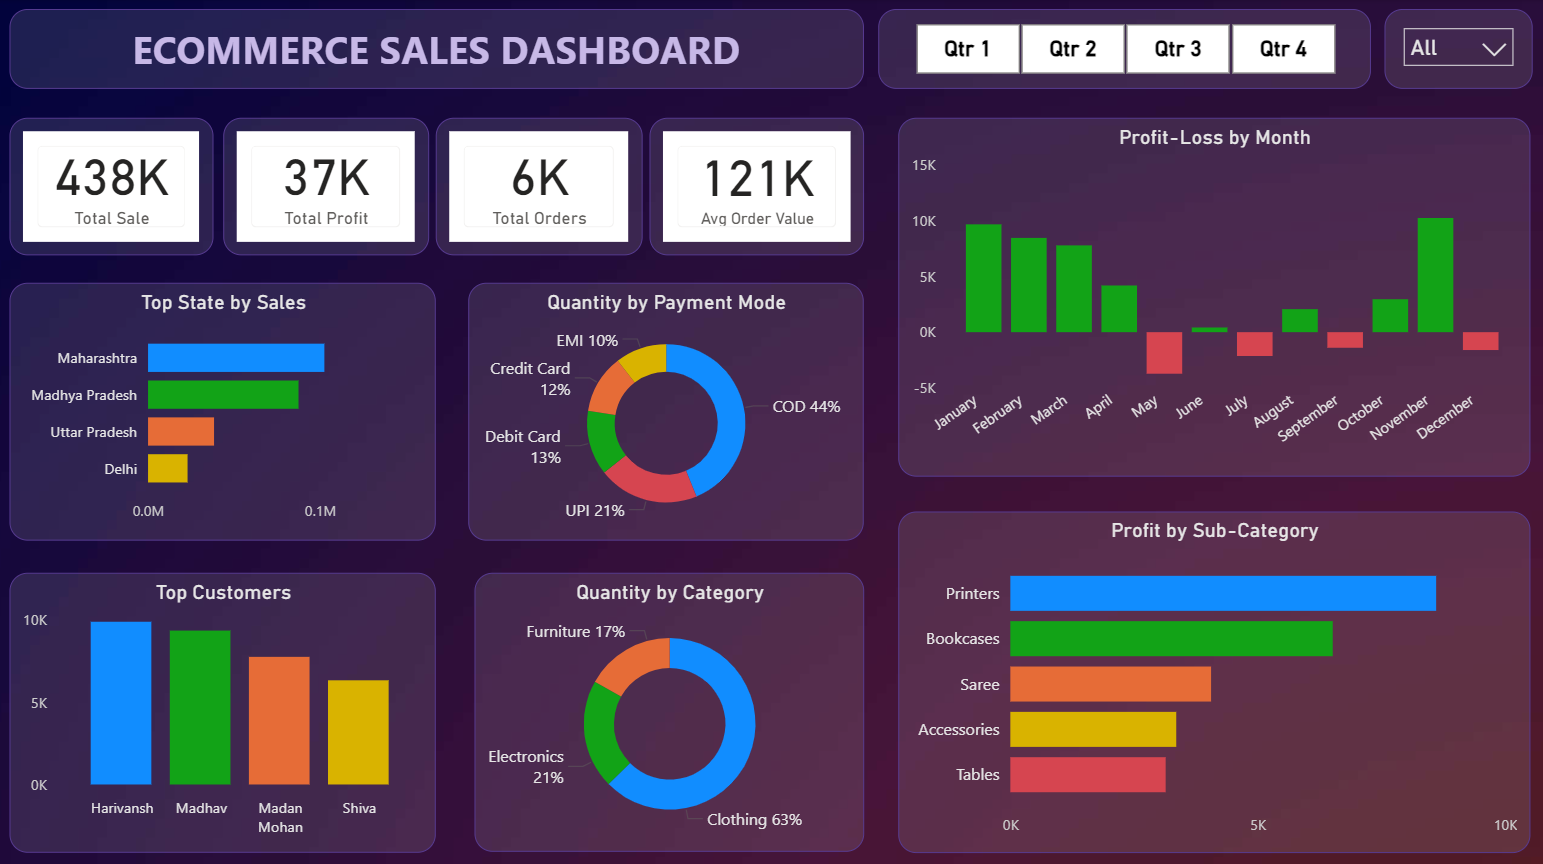

What the dashboard file says about the page in this screenshot:
{"tool":"powerbi","page":{"name":"Page 1","canvas":[1288,720],"ordinal":0},"visuals":[{"type":"clusteredColumnChart","title":"Profit-Loss by Month","fields":{"Category":["Orders.Order Date.Variation.Date Hierarchy.Month"],"Y":["Sum(Details.Profit)"]},"box":[748.8,98.3,525.4,298.4],"z":0},{"type":"clusteredBarChart","title":"Profit by Sub-Category","fields":{"Category":["Details.Sub-Category"],"Y":["Sum(Details.Profit)"]},"box":[748.8,425.9,525.4,284.3],"z":1000},{"type":"donutChart","title":"Quantity by Category","fields":{"Category":["Details.Category"],"Y":["Sum(Details.Quantity)"]},"box":[396.7,477.4,324.1,231.7],"z":2000},{"type":"donutChart","title":"Quantity by Payment Mode","fields":{"Y":["Sum(Details.Quantity)"],"Category":["Details.PaymentMode"]},"box":[392,236.4,328.8,214.1],"z":3000},{"type":"cardVisual","fields":{"Data":["Sum(Details.Amount)"]},"box":[10.5,98.3,169.7,114.7],"z":4000},{"type":"clusteredBarChart","title":"Top State by Sales","fields":{"Category":["Orders.State"],"Y":["Sum(Details.Amount)"]},"box":[10.5,236.4,354.5,214.1],"z":5000},{"type":"clusteredColumnChart","title":"Top Customers","fields":{"Category":["Orders.CustomerName"],"Y":["Sum(Details.Amount)"]},"box":[10.5,477.4,354.5,232.8],"z":6000},{"type":"cardVisual","fields":{"Data":["Sum(Details.Quantity)"]},"box":[365.1,98.3,172,114.7],"z":7000},{"type":"cardVisual","fields":{"Data":["Sum(Details.Profit)"]},"box":[188.4,98.3,170.8,114.7],"z":8000},{"type":"slicer","fields":{"Values":["Orders.Order Date.Variation.Date Hierarchy.Quarter"]},"box":[732.5,8.2,409.5,66.7],"z":9000},{"type":"slicer","fields":{"Values":["Orders.State"]},"box":[1153.7,8.2,122.9,66.7],"z":10000},{"type":"textbox","box":[10.5,8.2,710.2,66.7],"z":11000},{"type":"cardVisual","fields":{"Data":["Sum(Details.AOV)"]},"box":[542.5,98.7,178.8,114.3],"z":12000}]}

Visuals, with their boxes in screenshot pixels (x1, y1, x2, y2), scaled from the page's 1288x720 canvas onto the 1543x864 screenshot:
"Profit-Loss by Month" clusteredColumnChart: (897, 118, 1526, 476)
"Profit by Sub-Category" clusteredBarChart: (897, 511, 1526, 852)
"Quantity by Category" donutChart: (475, 573, 864, 851)
"Quantity by Payment Mode" donutChart: (470, 284, 864, 541)
cardVisual - Sum(Details.Amount): (13, 118, 216, 256)
"Top State by Sales" clusteredBarChart: (13, 284, 437, 541)
"Top Customers" clusteredColumnChart: (13, 573, 437, 852)
cardVisual - Sum(Details.Quantity): (437, 118, 643, 256)
cardVisual - Sum(Details.Profit): (226, 118, 430, 256)
slicer - Orders.Order Date.Variation.Date Hierarchy.Quarter: (878, 10, 1368, 90)
slicer - Orders.State: (1382, 10, 1529, 90)
textbox: (13, 10, 863, 90)
cardVisual - Sum(Details.AOV): (650, 118, 864, 256)
